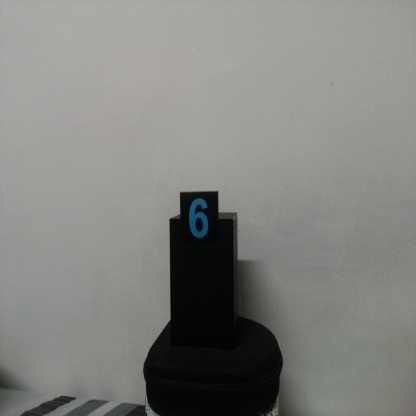id_6: (179, 192, 220, 256)
